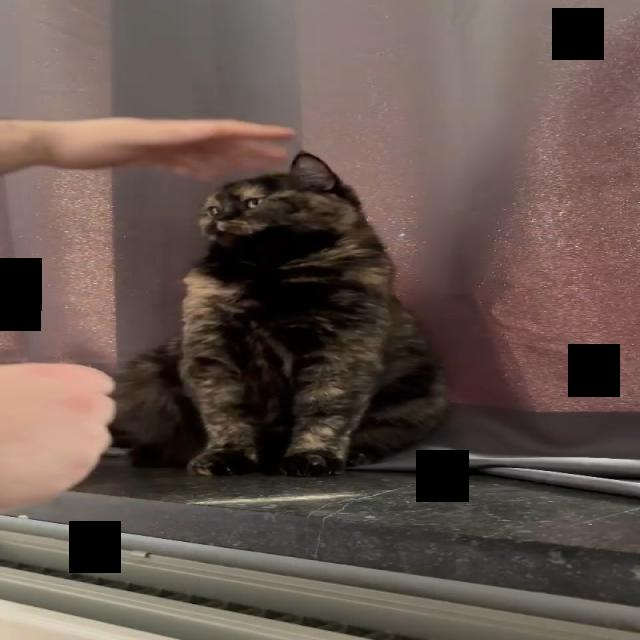authorized: (107, 149, 449, 477)
